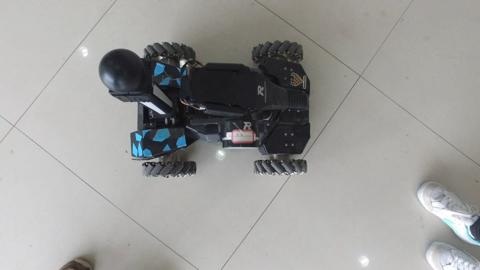chariot: (96, 25, 329, 186)
